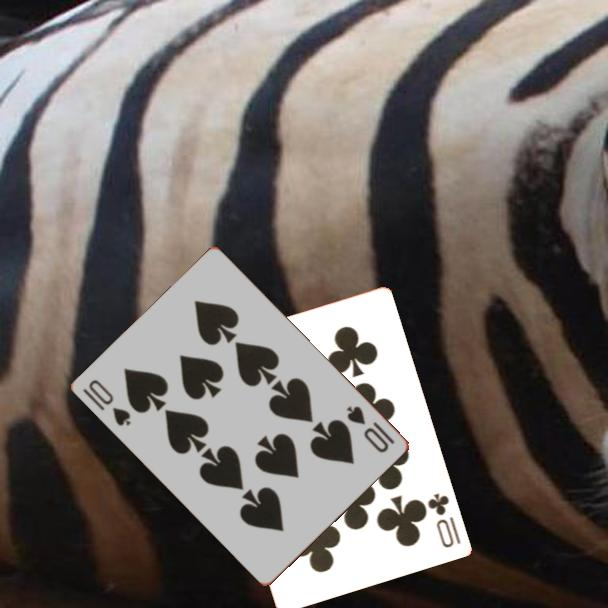c10: (423, 489, 463, 550)
s10: (343, 402, 398, 456), (80, 376, 134, 429)
